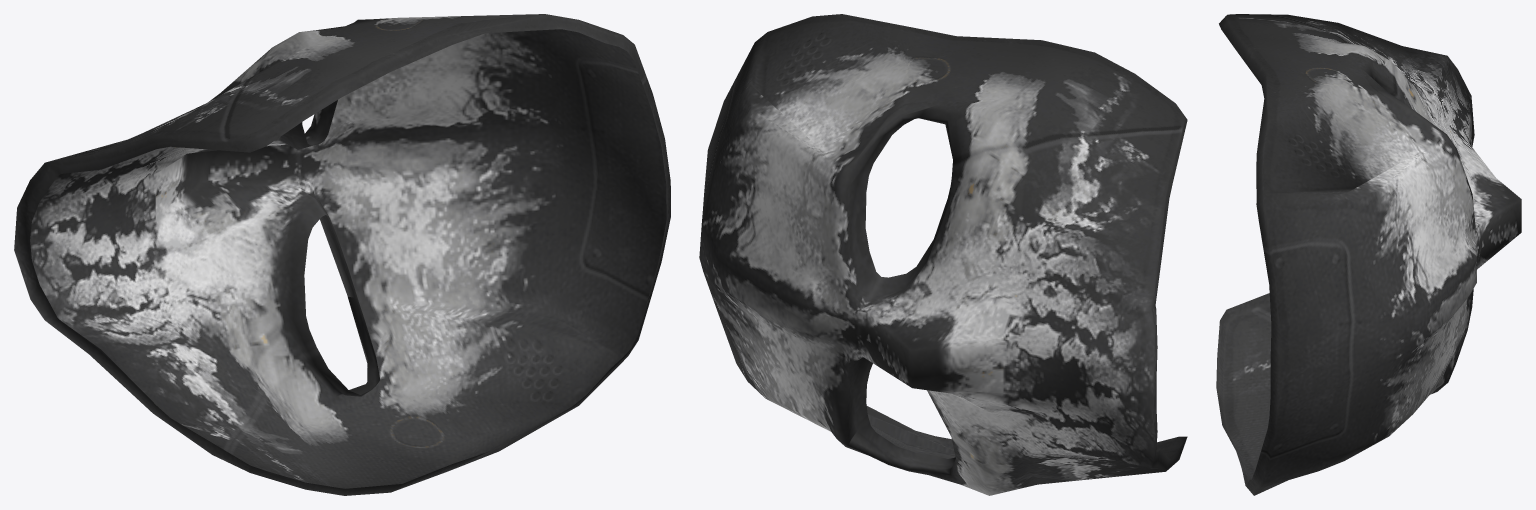
The model's file is M_GunRunnersBallisticMask.fbx.
3 views of the same model, side by side, from view 1: azimuth 30°, elevation 25°; view 2: azimuth 150°, elevation 25°; view 3: azimuth 270°, elevation 25° (orthographic). The views are drawn at different scales.
Visible parts, largest first — view 1: Mask; view 2: Mask; view 3: Mask.
Boxes of the visible parts, box(x1,y1,x2,y2) form: Mask: box(14, 14, 670, 495); Mask: box(699, 14, 1187, 495); Mask: box(1216, 14, 1521, 495).
Size of the model in its own units: 0.1645 by 0.1221 by 0.0861.
